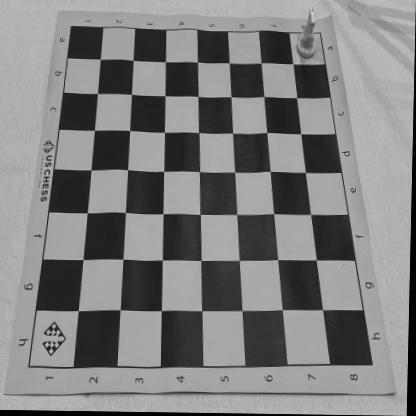white-knight: (296, 6, 318, 60)
